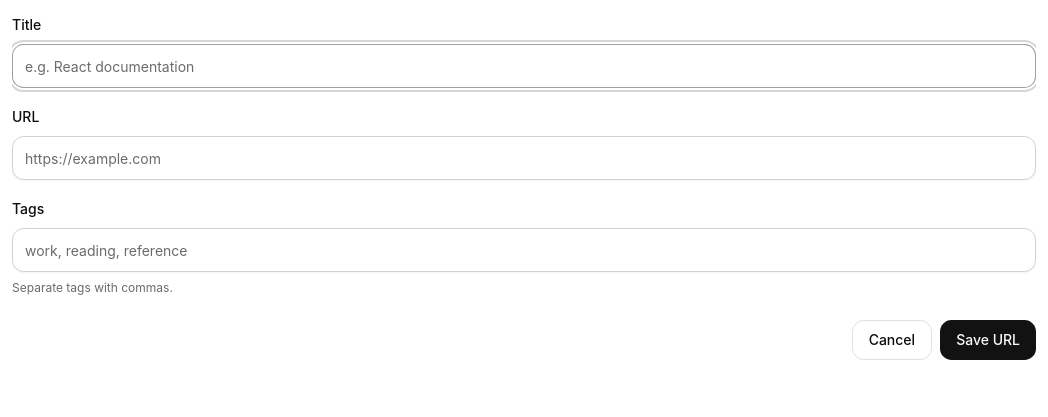
Test: reports an invalid bookmark URL
This screenshot has width=1048, height=417.
Type "Broken" into the field labelled "Title" at (524, 66), box [12,44,1036,88]
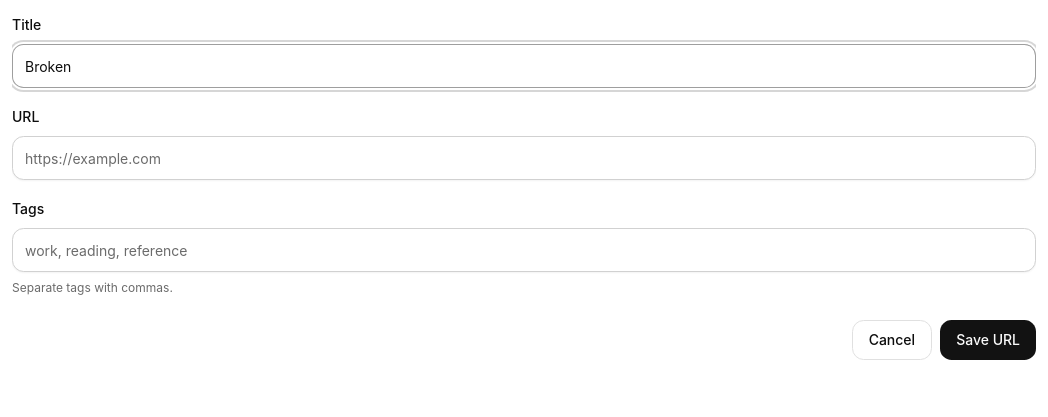
Type "://" into the field labelled "URL" at (524, 158), box [12,136,1036,180]
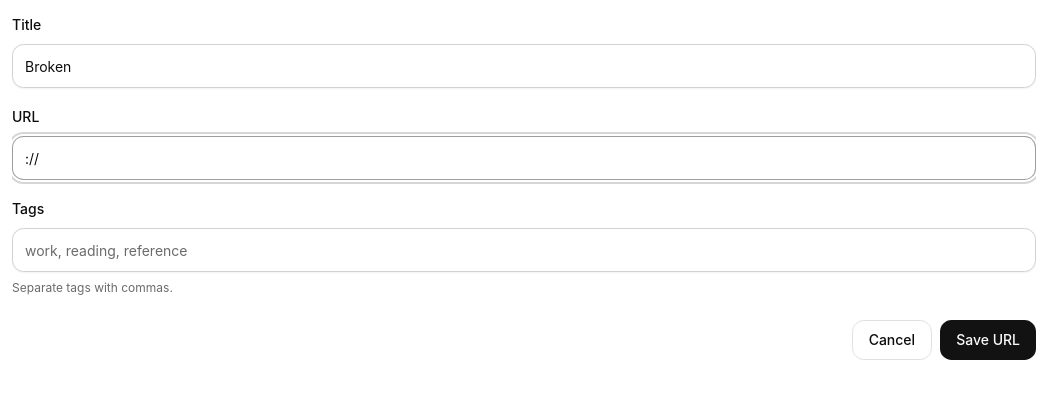
Click the button "Save URL" at (988, 340), box [940,320,1036,360]
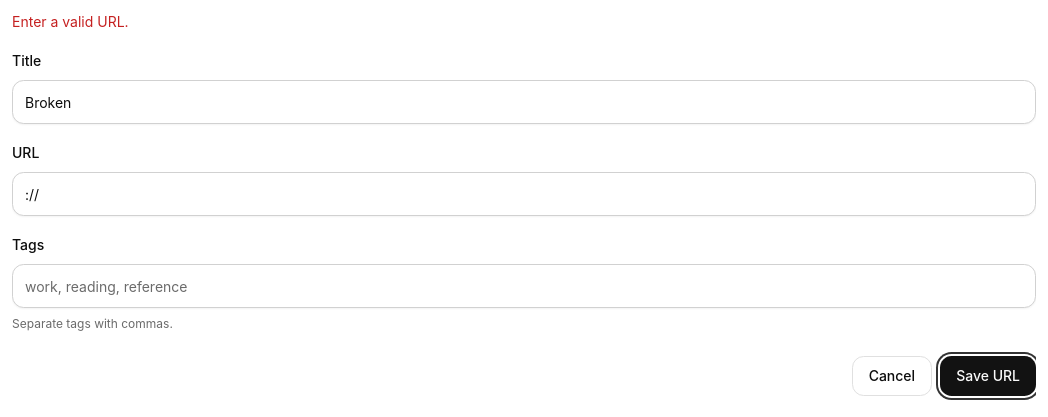
Check: the message shows "Enter a valid URL", box [12,13,129,30]
